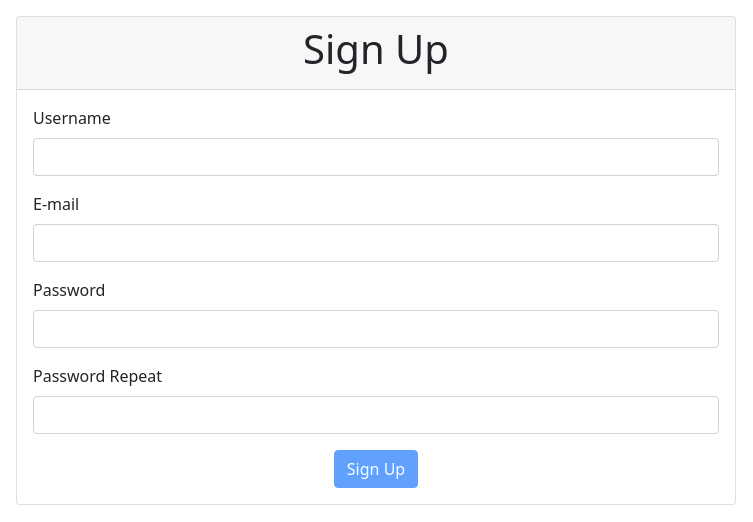
Test case: Sign Up Page › Interactions › displays spinner after clicking the submit
Type "user1" into the field labelled "Username".
click(376, 157); type("user1")  # box x1=33 y1=138 x2=719 y2=176
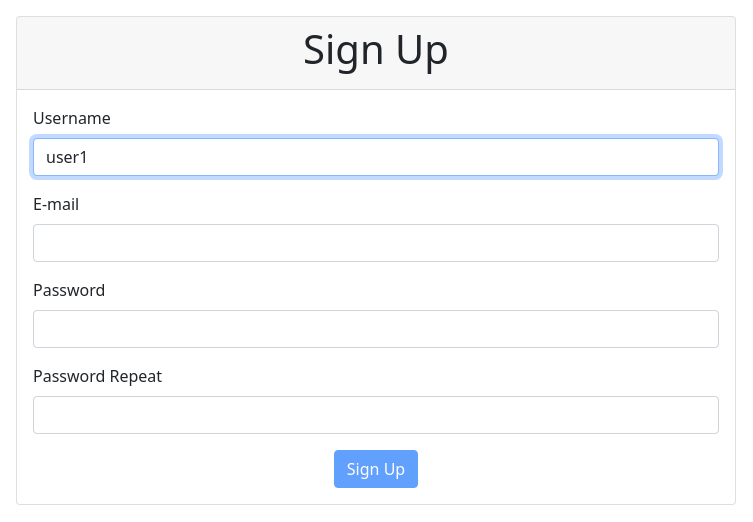
Type "user1@mail.com" into the field labelled "E-mail".
click(376, 243); type("user1@mail.com")  # box x1=33 y1=224 x2=719 y2=262
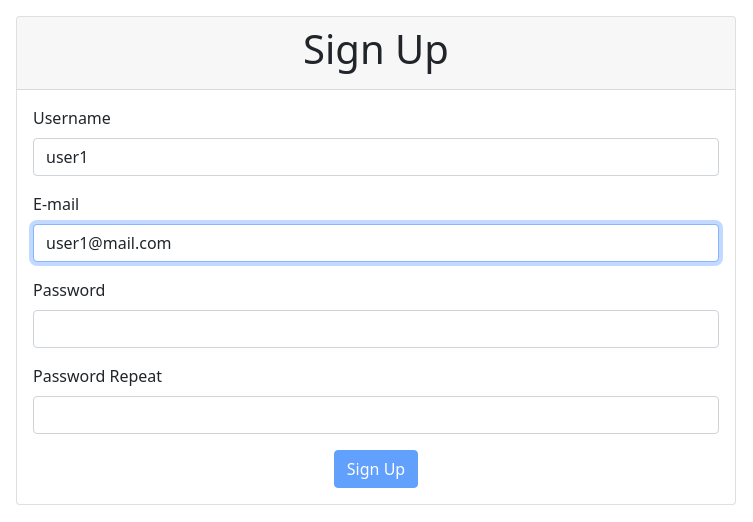
Type "Qfsd15164" into the password field labelled "Password".
click(376, 329); type("Qfsd15164")  # box x1=33 y1=310 x2=719 y2=348
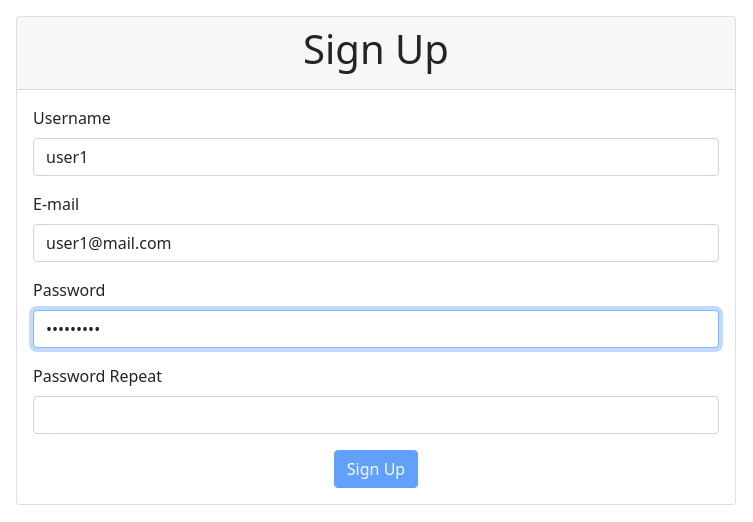
Type "Qfsd15164" into the password field labelled "Password Repeat".
click(376, 415); type("Qfsd15164")  # box x1=33 y1=396 x2=719 y2=434
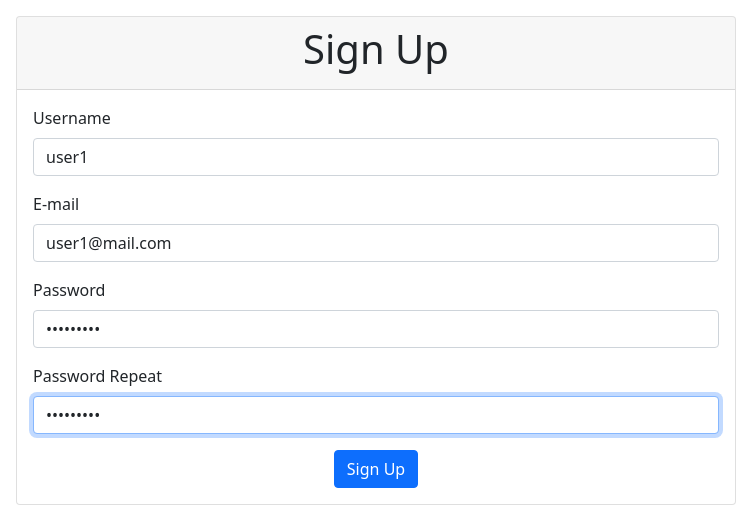
Click the button "Sign Up".
click(376, 469)  # box x1=334 y1=450 x2=418 y2=488
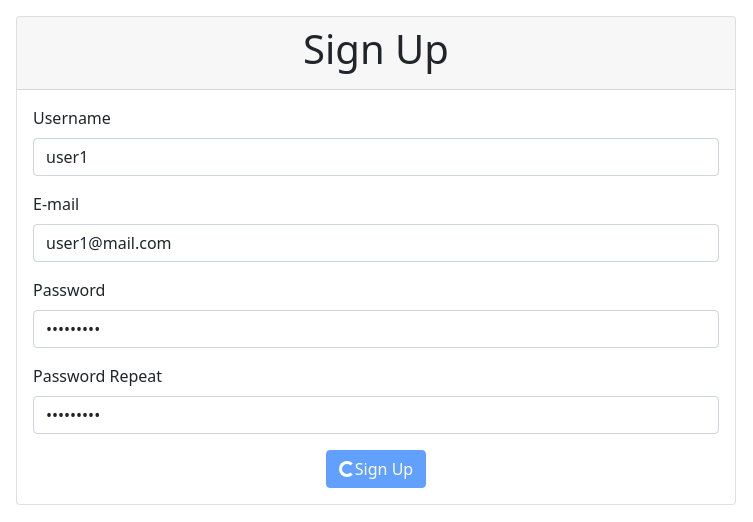
Check: the message is shown, box x1=339 y1=461 x2=355 y2=477
